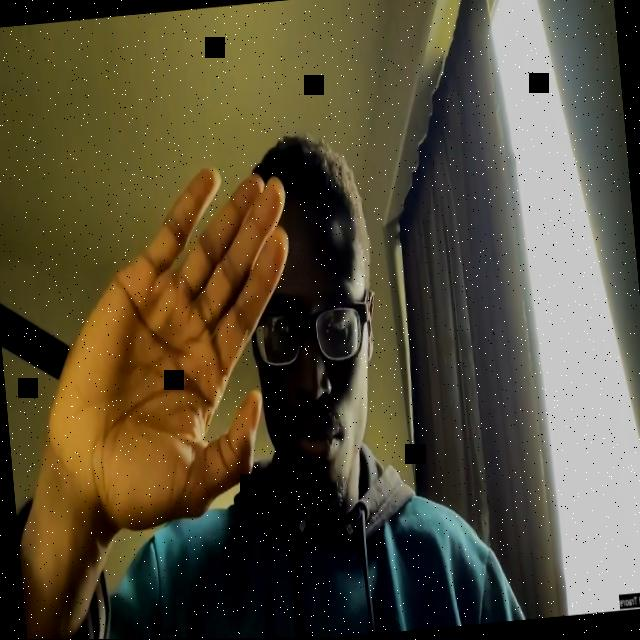Paper: (29, 158, 312, 534)
